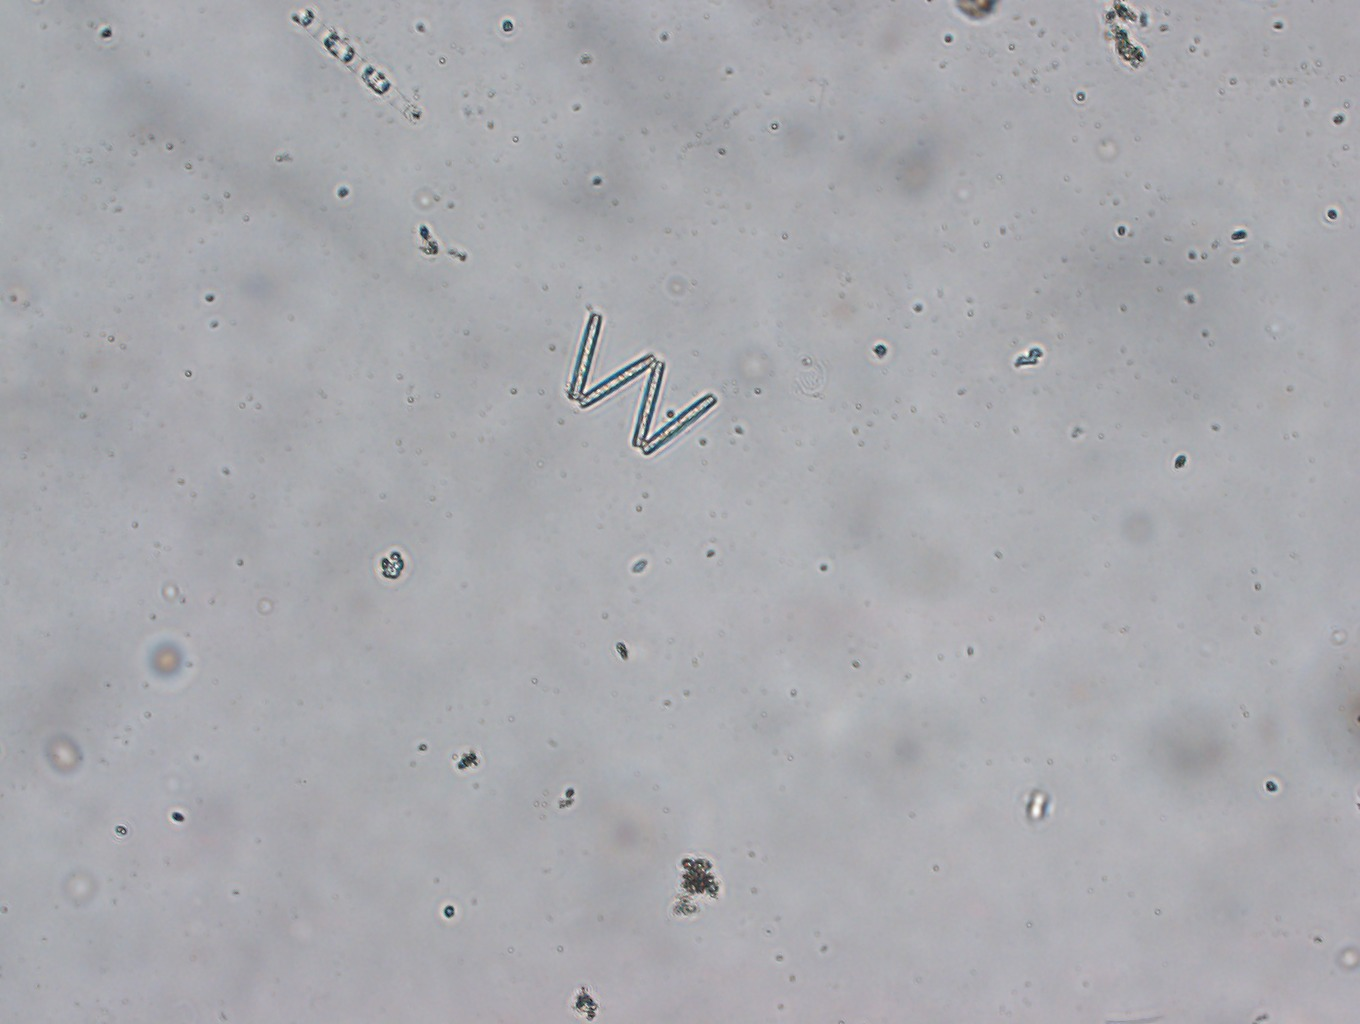skeletonema: (294, 6, 425, 126)
thalassionema nitzschioides: (566, 313, 719, 458)
